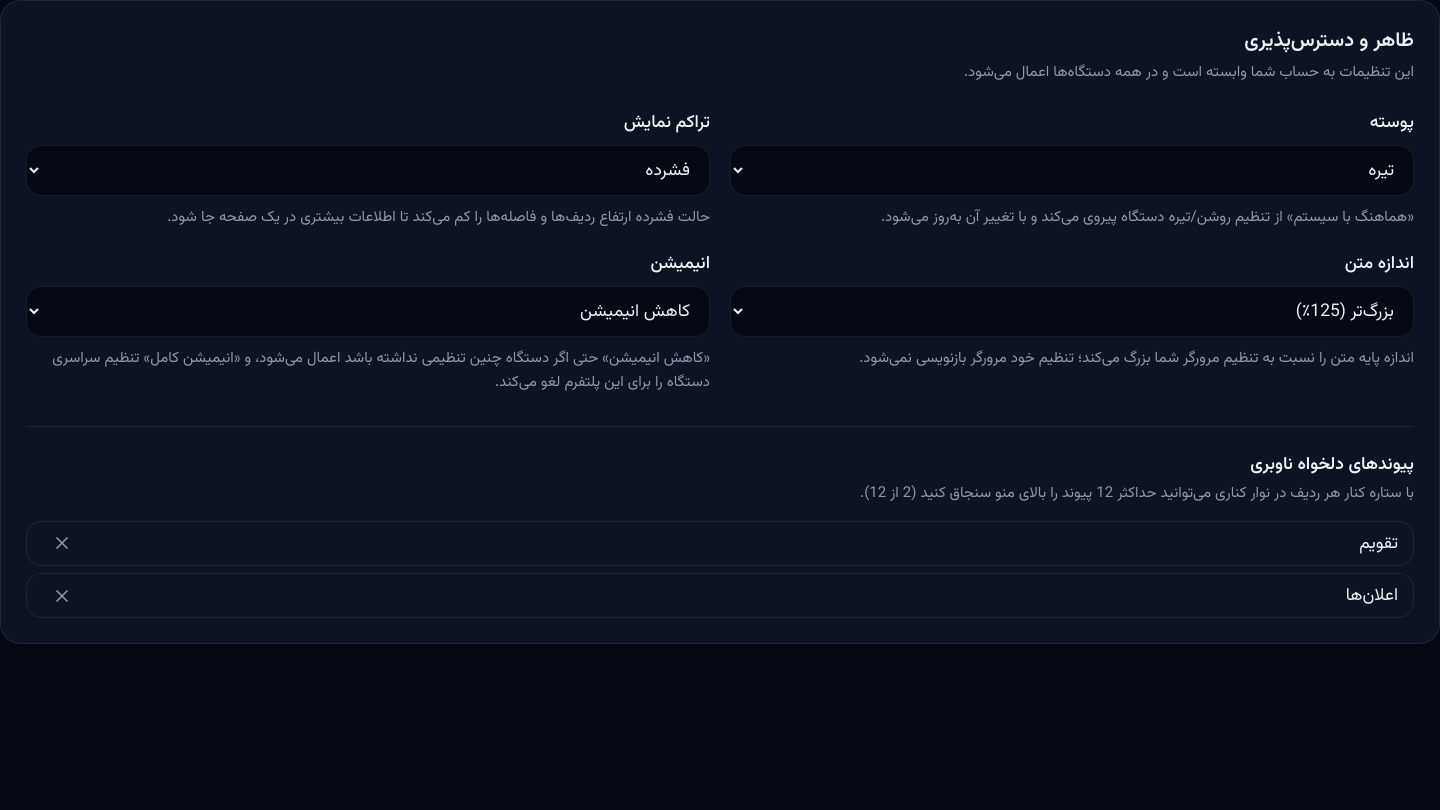
it: CoreAppearanceSettings › CoreAppearanceSettings navigation favourites › removes one and persists only that field
Expected: the dropdown labelled "تراکم نمایش" is enabled, [26,145,710,196]
Click the button named "حذف «تقویم» از پیوندهای دلخواه" at x=62, y=543, box [42,523,82,563]
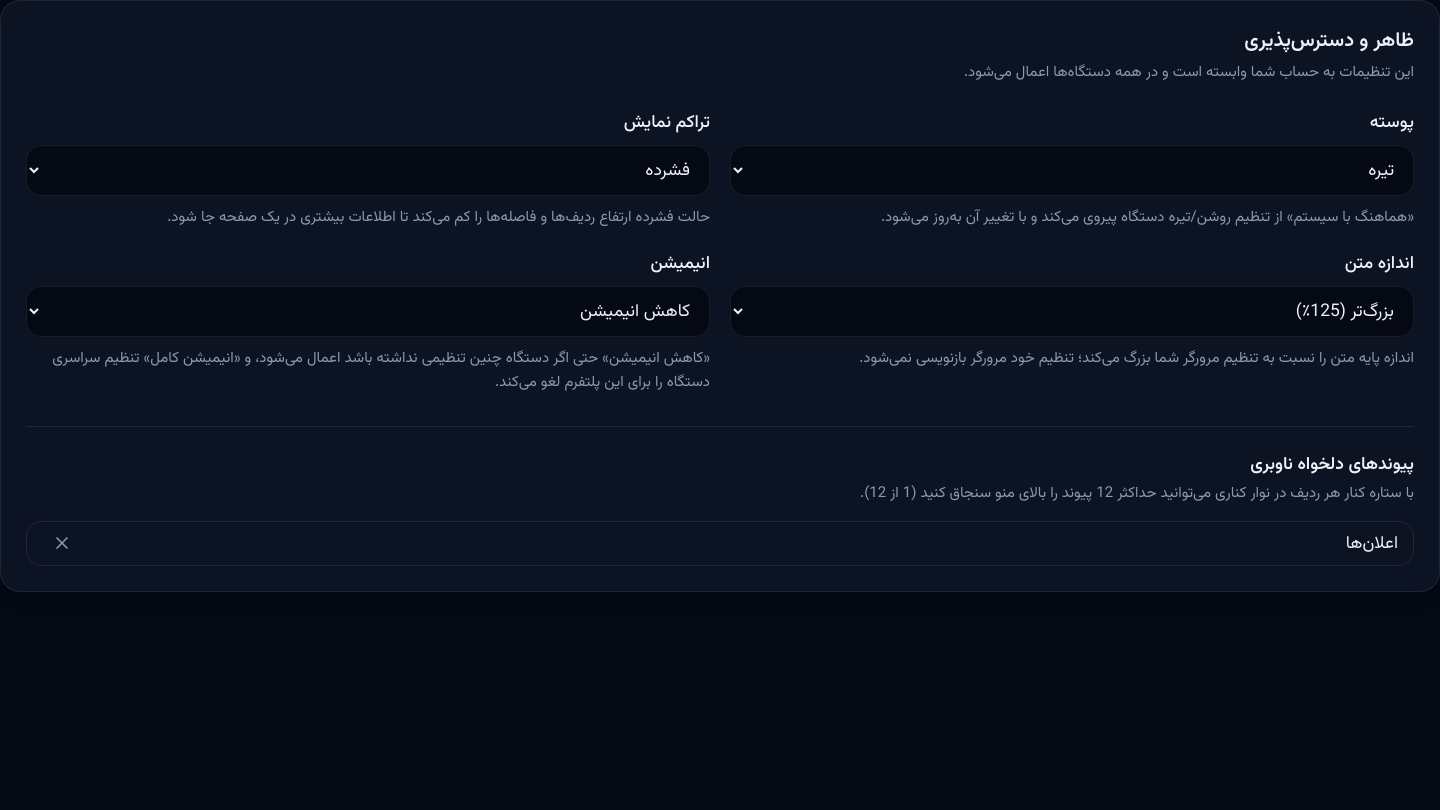
Now the number of list items with test id "favorite-entry" is 1, box [26,521,1414,566]
